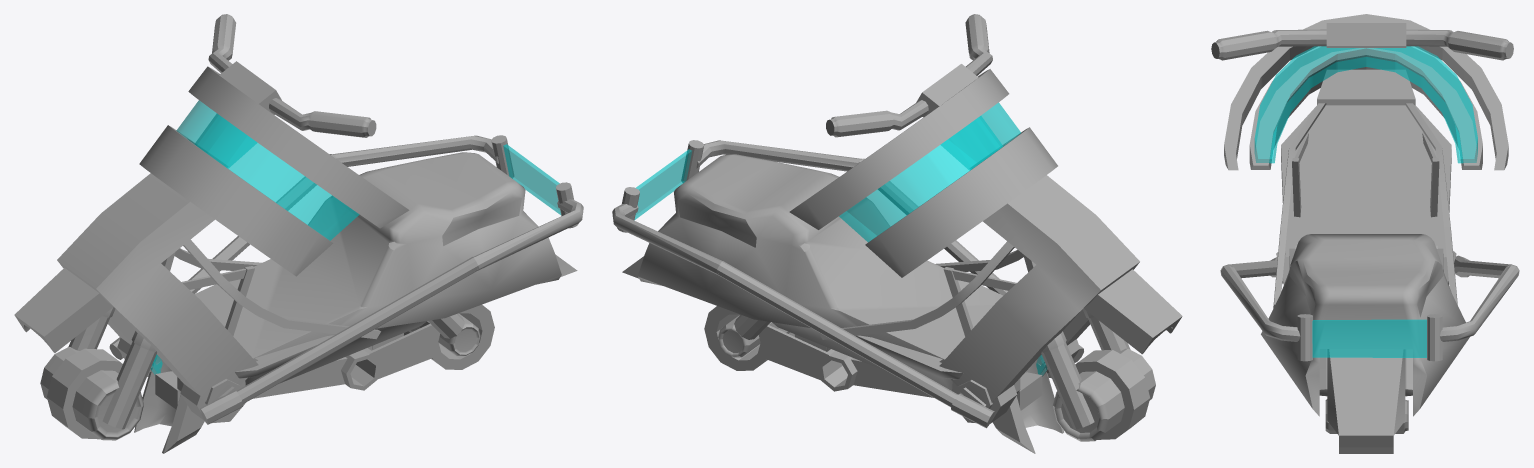
File: MotobikePainting.fbx
3 views of the same model, side by side, from view 1: azimuth 30°, elevation 25°; view 2: azimuth 150°, elevation 25°; view 3: azimuth 270°, elevation 25° (orthographic).
Visible parts, largest first — view 1: Seat, Front, Round, Windshield, WheelInner, WheelBar, polySurface1, WheelCover, Deco1, FrontWheelSupport, Middle, FrontWheelBar (+13 smaller); view 2: Seat, Front, Round, Windshield, WheelInner, WheelBar, polySurface5, WheelCover, Deco2, Middle, FrontWheelSupport, FrontWheelBar2 (+14 smaller); view 3: Front, Seat, Round, Windshield, Tail, NumberPlate, LHandleBar, Deco1, RHandleBar, Deco2, polySurface2, polySurface6 (+8 smaller).
Boxes of the visible parts, x1=… form: Seat: x1=194, y1=152, x2=561, y2=358; Front: x1=57, y1=173, x2=258, y2=401; Round: x1=139, y1=61, x2=409, y2=276; Windshield: x1=176, y1=100, x2=359, y2=240; WheelInner: x1=40, y1=347, x2=143, y2=440; WheelBar: x1=155, y1=321, x2=435, y2=409; polySurface1: x1=200, y1=257, x2=479, y2=424; WheelCover: x1=14, y1=268, x2=113, y2=352; Deco1: x1=181, y1=239, x2=380, y2=339; FrontWheelSupport: x1=134, y1=355, x2=204, y2=453; Middle: x1=234, y1=321, x2=426, y2=385; FrontWheelBar: x1=102, y1=331, x2=156, y2=429; Seat: x1=637, y1=154, x2=1002, y2=359; Front: x1=939, y1=175, x2=1139, y2=404; Round: x1=789, y1=64, x2=1057, y2=277; Windshield: x1=839, y1=102, x2=1020, y2=242; WheelInner: x1=1053, y1=348, x2=1155, y2=441; WheelBar: x1=763, y1=322, x2=1042, y2=410; polySurface5: x1=716, y1=261, x2=994, y2=428; WheelCover: x1=1083, y1=269, x2=1182, y2=354; Deco2: x1=818, y1=241, x2=1016, y2=339; Middle: x1=772, y1=322, x2=963, y2=390; FrontWheelSupport: x1=992, y1=355, x2=1063, y2=453; FrontWheelBar2: x1=1041, y1=331, x2=1094, y2=429; Front: x1=1281, y1=69, x2=1451, y2=257; Seat: x1=1261, y1=234, x2=1469, y2=416; Round: x1=1224, y1=14, x2=1508, y2=170; Windshield: x1=1254, y1=46, x2=1477, y2=163; Tail: x1=1327, y1=349, x2=1405, y2=435; NumberPlate: x1=1312, y1=319, x2=1426, y2=357; LHandleBar: x1=1211, y1=29, x2=1326, y2=60; Deco1: x1=1273, y1=103, x2=1326, y2=307; RHandleBar: x1=1406, y1=29, x2=1513, y2=60; Deco2: x1=1405, y1=103, x2=1457, y2=304; polySurface2: x1=1221, y1=265, x2=1300, y2=341; polySurface6: x1=1439, y1=265, x2=1518, y2=341.
Bounding box in the file's own units: 13.05 × 7.98 × 6.48.
